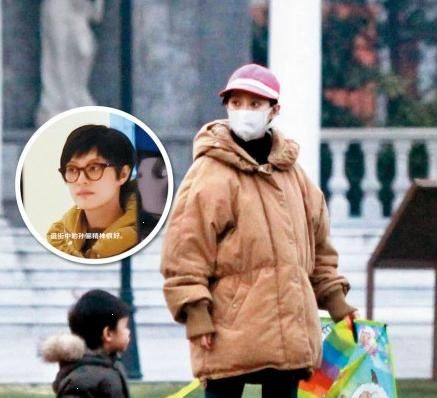face: (64, 144, 117, 208)
face_mask: (227, 92, 270, 142), (107, 313, 130, 351)
